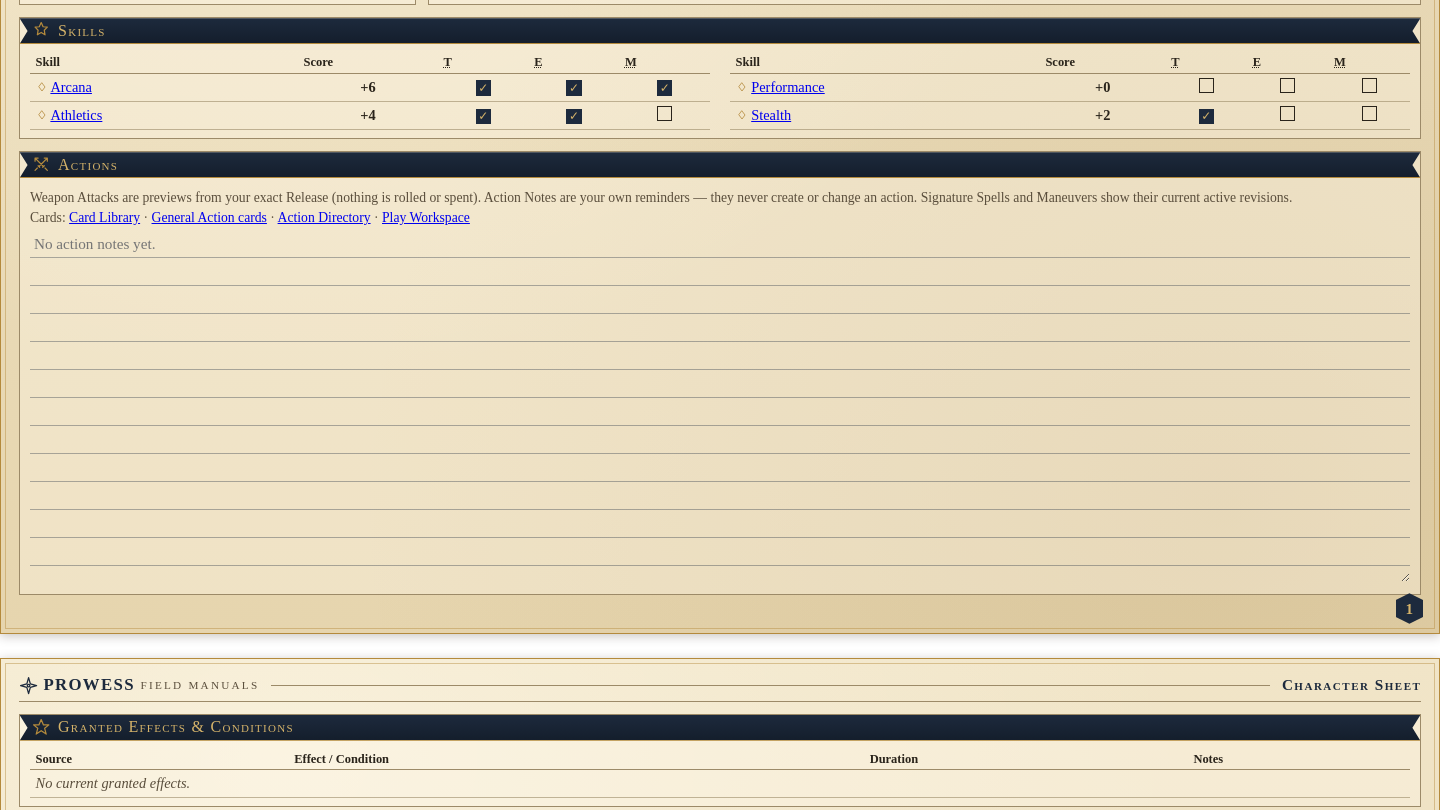
Test: M6-WO5 interaction (§29–§35, §44, §63) › Company / PAC, Action Notes, Character Notes and possessions autosave together as text only
(page scrolled)
Type "Strike: 2 AP, then Dodge" into the text box with test id "sheet-action-notes" at coordinates (720, 406), box [30, 230, 1410, 582]
(page scrolled)
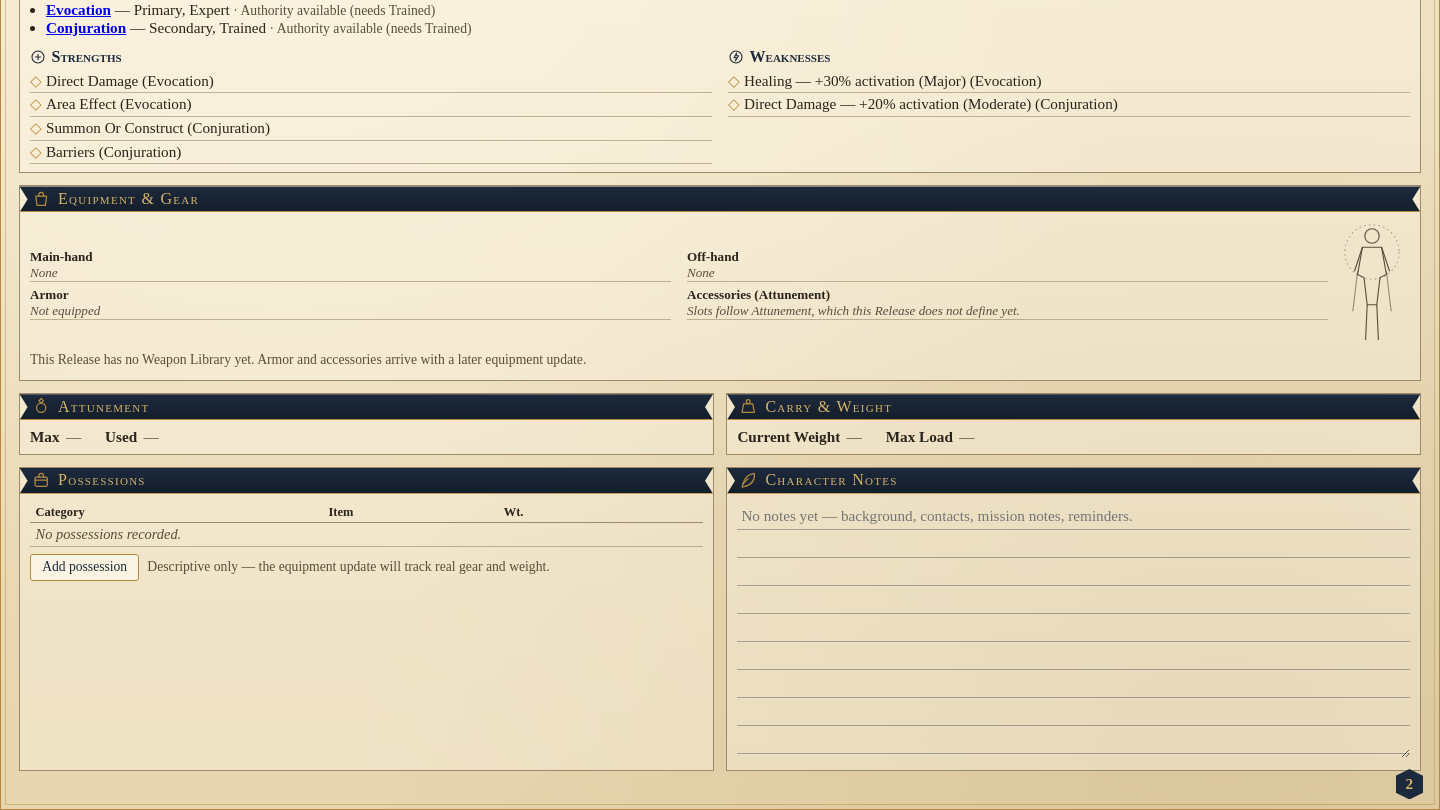
Replace the text in the text box with test id "sheet-character-notes" with "Owes the harbormaster" at coordinates (1074, 630), box [737, 502, 1410, 758]
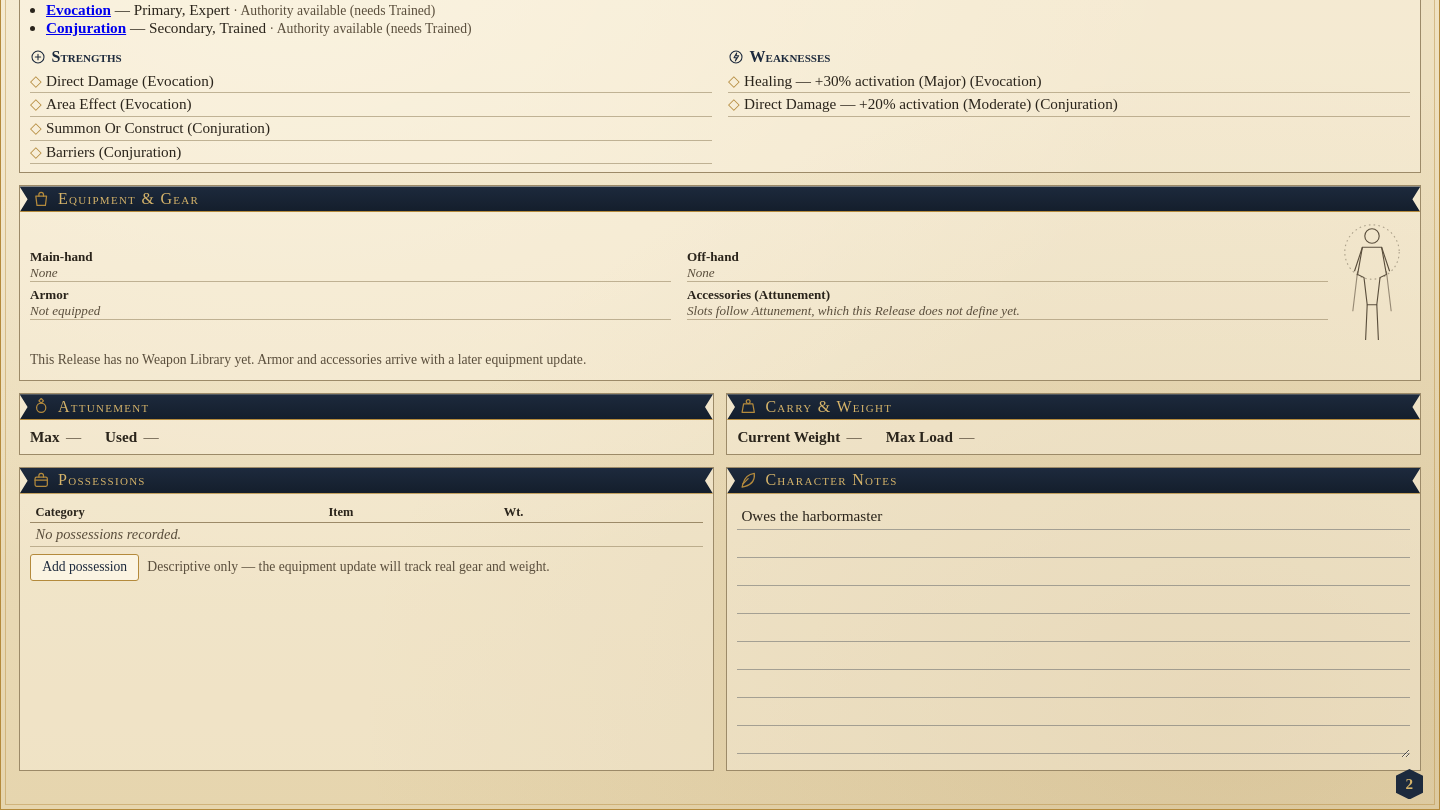
Click the button "Add possession" at coordinates (85, 567), box [30, 554, 139, 581]
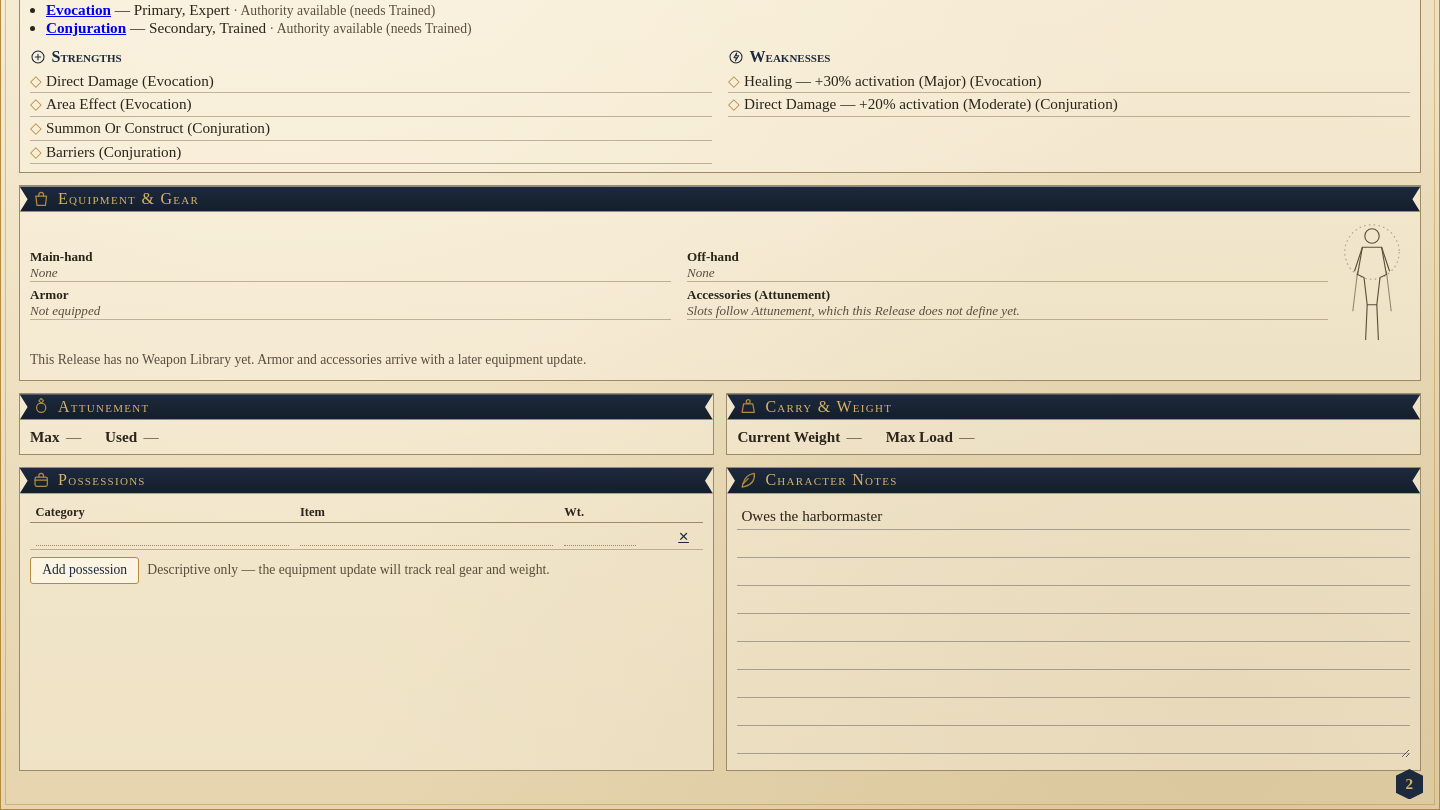
Type "Rope" into the field named "Item of possession 1" at coordinates (427, 536), box [300, 526, 553, 546]
(page scrolled)
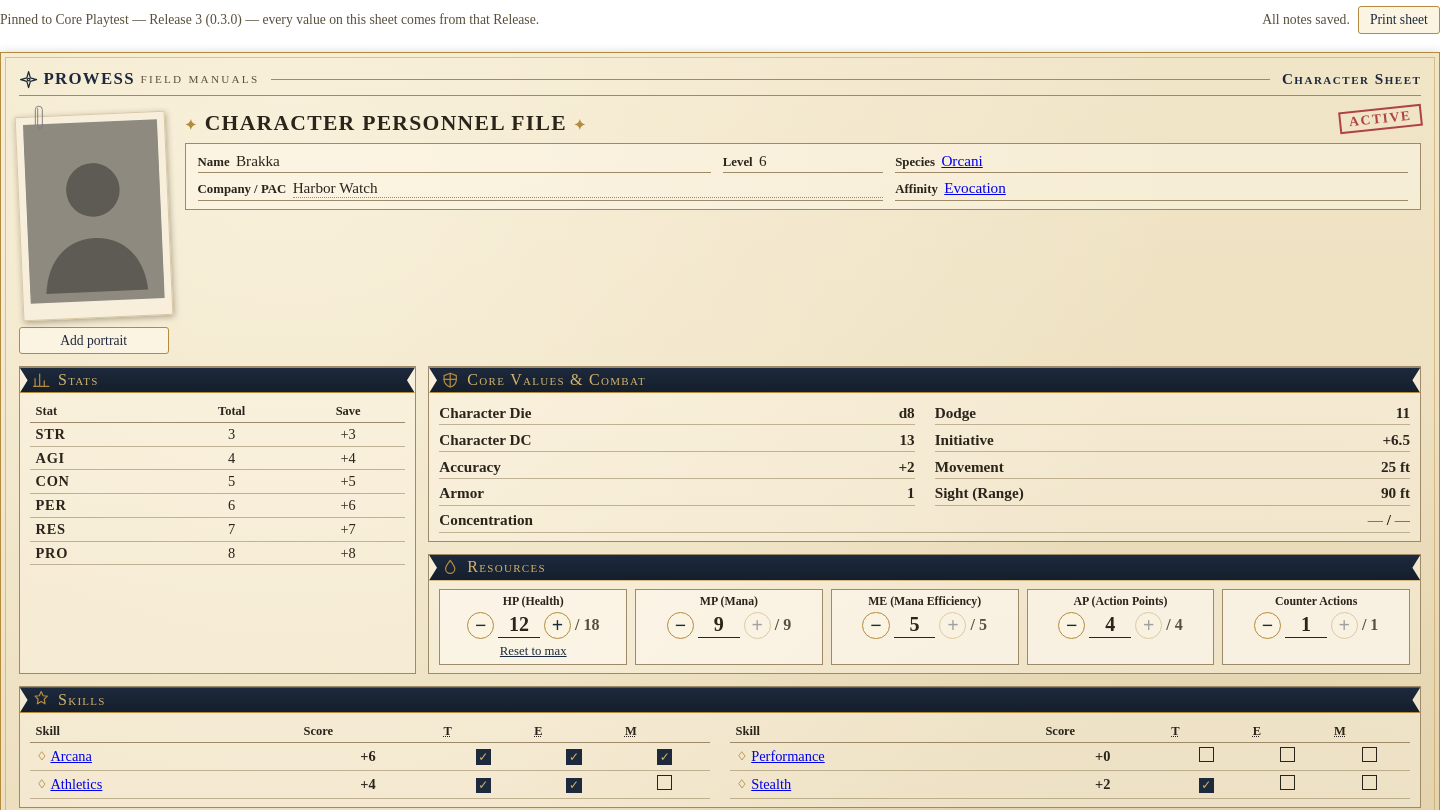
Check: the message with test id "sheet-notes-status" reads "All notes saved.", box [1262, 12, 1350, 27]
